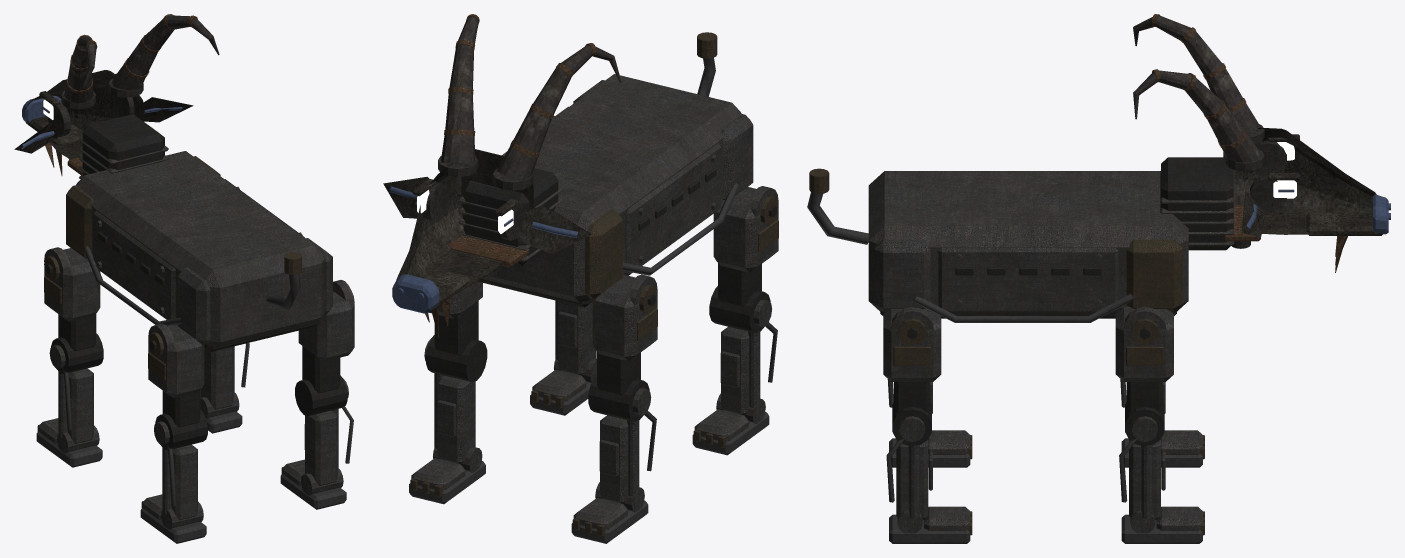
The model's file is scrap-goat.glb.
3 views of the same model, side by side, from view 1: azimuth 30°, elevation 25°; view 2: azimuth 150°, elevation 25°; view 3: azimuth 270°, elevation 25° (orthographic). The views are drawn at different scales.
Visible parts, largest first — view 1: Skin_Body_Visual, Skin_Head_Visual, Skin_RL_Upper_Visual, Skin_FL_Upper_Visual, Skin_RR_Lower_Visual, Skin_RR_Upper_Visual, Skin_RL_Lower_Visual, Skin_FL_Lower_Visual, Skin_FR_Lower_Visual, Skin_RR_Foot_Visual, Skin_FL_Foot_Visual, Skin_RL_Foot_Visual (+2 smaller); view 2: Skin_Body_Visual, Skin_Head_Visual, Skin_FL_Upper_Visual, Skin_RL_Upper_Visual, Skin_RL_Lower_Visual, Skin_FL_Lower_Visual, Skin_FR_Lower_Visual, Skin_FR_Foot_Visual, Skin_FL_Foot_Visual, Skin_RL_Foot_Visual, Skin_RR_Lower_Visual, Skin_FR_Upper_Visual (+2 smaller); view 3: Skin_Body_Visual, Skin_Head_Visual, Skin_FR_Upper_Visual, Skin_RR_Upper_Visual, Skin_RR_Lower_Visual, Skin_FR_Lower_Visual, Skin_RR_Foot_Visual, Skin_FR_Foot_Visual, Skin_RL_Foot_Visual, Skin_FL_Foot_Visual, Goat_Jaw_Visual.
Boxes of the visible parts, <box> form: Skin_Body_Visual: <box>66,114,332,351</box>; Skin_Head_Visual: <box>14,14,219,176</box>; Skin_RL_Upper_Visual: <box>148,323,204,427</box>; Skin_FL_Upper_Visual: <box>44,247,100,350</box>; Skin_RR_Lower_Visual: <box>295,375,353,485</box>; Skin_RR_Upper_Visual: <box>298,280,354,393</box>; Skin_RL_Lower_Visual: <box>154,409,207,519</box>; Skin_FL_Lower_Visual: <box>49,333,103,443</box>; Skin_FR_Lower_Visual: <box>200,343,249,409</box>; Skin_RR_Foot_Visual: <box>280,459,346,509</box>; Skin_FL_Foot_Visual: <box>36,418,102,467</box>; Skin_RL_Foot_Visual: <box>140,494,206,543</box>; Skin_Body_Visual: <box>458,32,753,307</box>; Skin_Head_Visual: <box>383,14,621,337</box>; Skin_FL_Upper_Visual: <box>592,274,657,395</box>; Skin_RL_Upper_Visual: <box>713,186,778,306</box>; Skin_RL_Lower_Visual: <box>709,286,777,415</box>; Skin_FL_Lower_Visual: <box>588,374,656,503</box>; Skin_FR_Lower_Visual: <box>424,335,487,464</box>; Skin_FR_Foot_Visual: <box>409,447,485,504</box>; Skin_FL_Foot_Visual: <box>571,482,648,543</box>; Skin_RL_Foot_Visual: <box>692,393,769,455</box>; Skin_RR_Lower_Visual: <box>555,300,596,375</box>; Skin_FR_Upper_Visual: <box>428,281,482,355</box>; Skin_Body_Visual: <box>807,157,1234,322</box>; Skin_Head_Visual: <box>1133,14,1390,272</box>; Skin_FR_Upper_Visual: <box>1115,306,1173,413</box>; Skin_RR_Upper_Visual: <box>883,307,941,413</box>; Skin_RR_Lower_Visual: <box>886,402,932,520</box>; Skin_FR_Lower_Visual: <box>1119,402,1165,520</box>; Skin_RR_Foot_Visual: <box>889,506,972,543</box>; Skin_FR_Foot_Visual: <box>1121,506,1204,543</box>; Skin_RL_Foot_Visual: <box>889,430,972,467</box>; Skin_FL_Foot_Visual: <box>1121,430,1204,467</box>; Goat_Jaw_Visual: <box>1306,212,1382,235</box>.
Bounding box in the file's own units: 0.882 × 1.73 × 2.01.
Materials: 10 (10 with a texture image).
